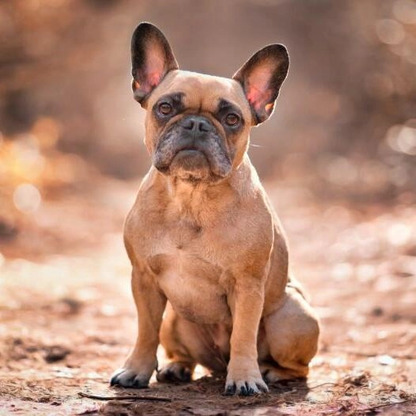bulldog: (110, 22, 323, 398)
